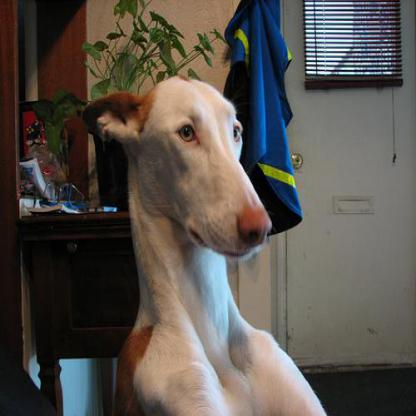dog: (84, 62, 341, 415)
